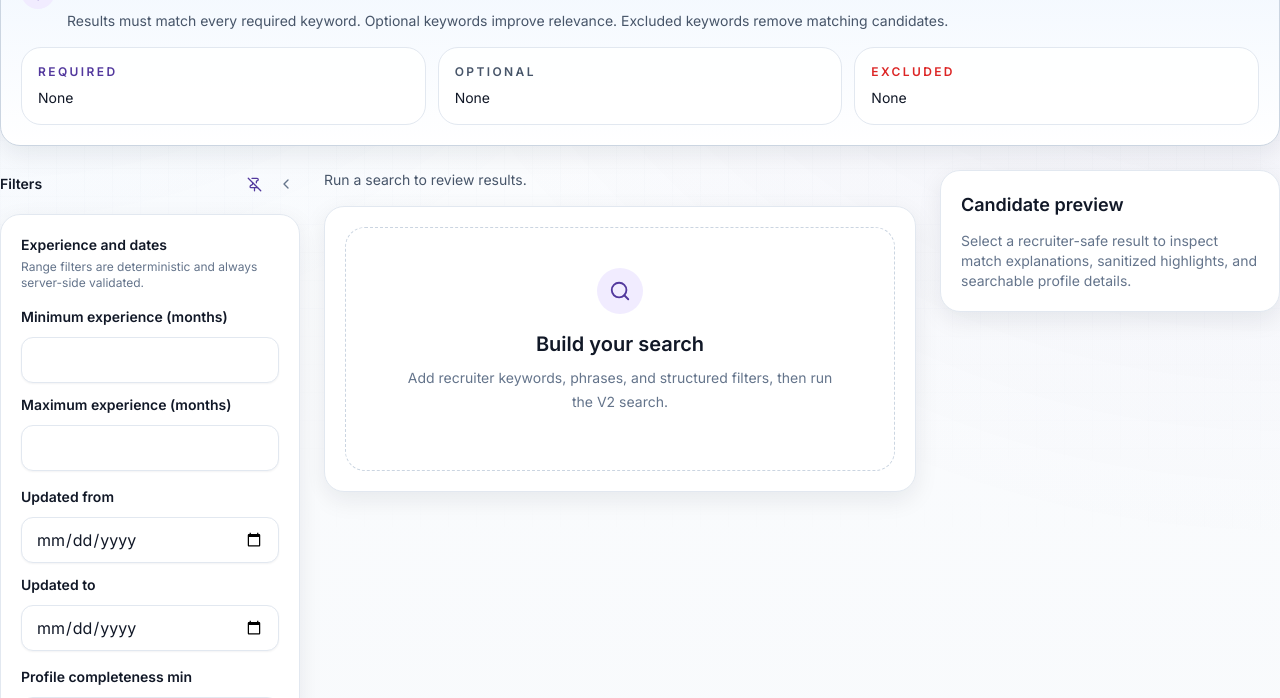
it: RecruiterResumeSearchV2Page › collapsing the filter rail hides the form behind a toggle showing the active filter count, and expanding restores the same values
(page scrolled)
Type "60" into the number field labelled "Minimum experience (months)" at (150, 360), box x1=21 y1=337 x2=279 y2=383
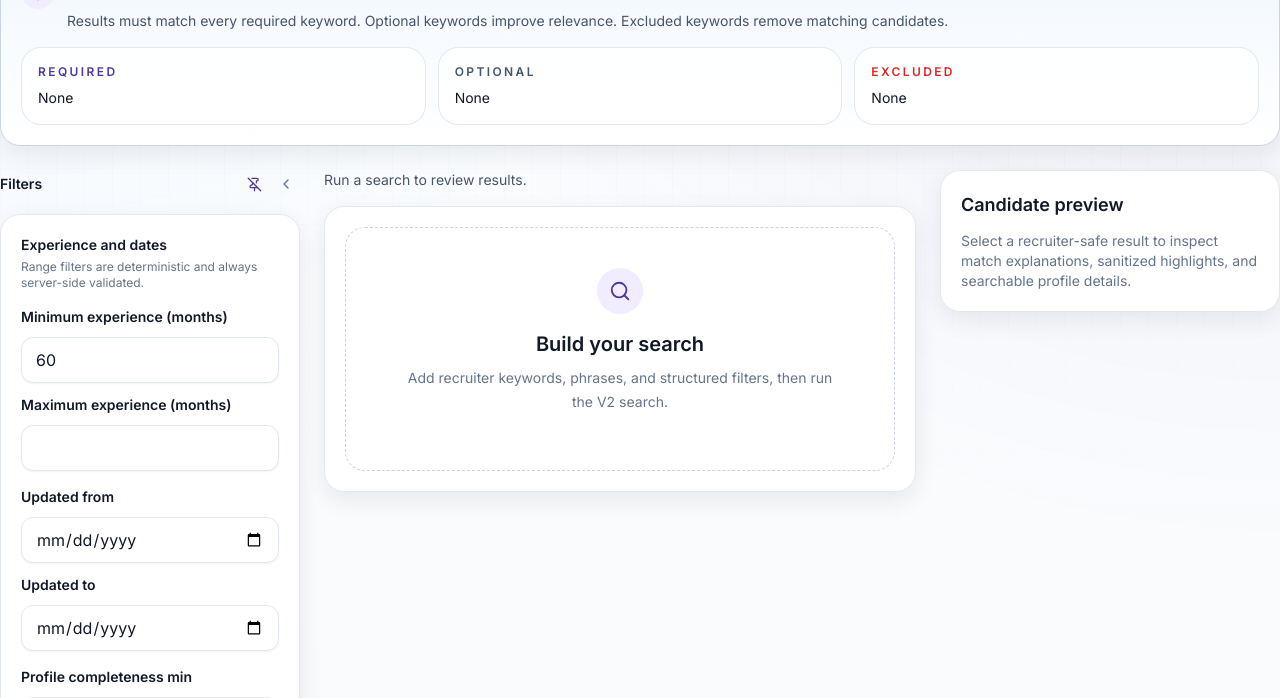
Click the button named "Collapse filters" at (286, 184), box x1=272 y1=170 x2=300 y2=198
(page scrolled)
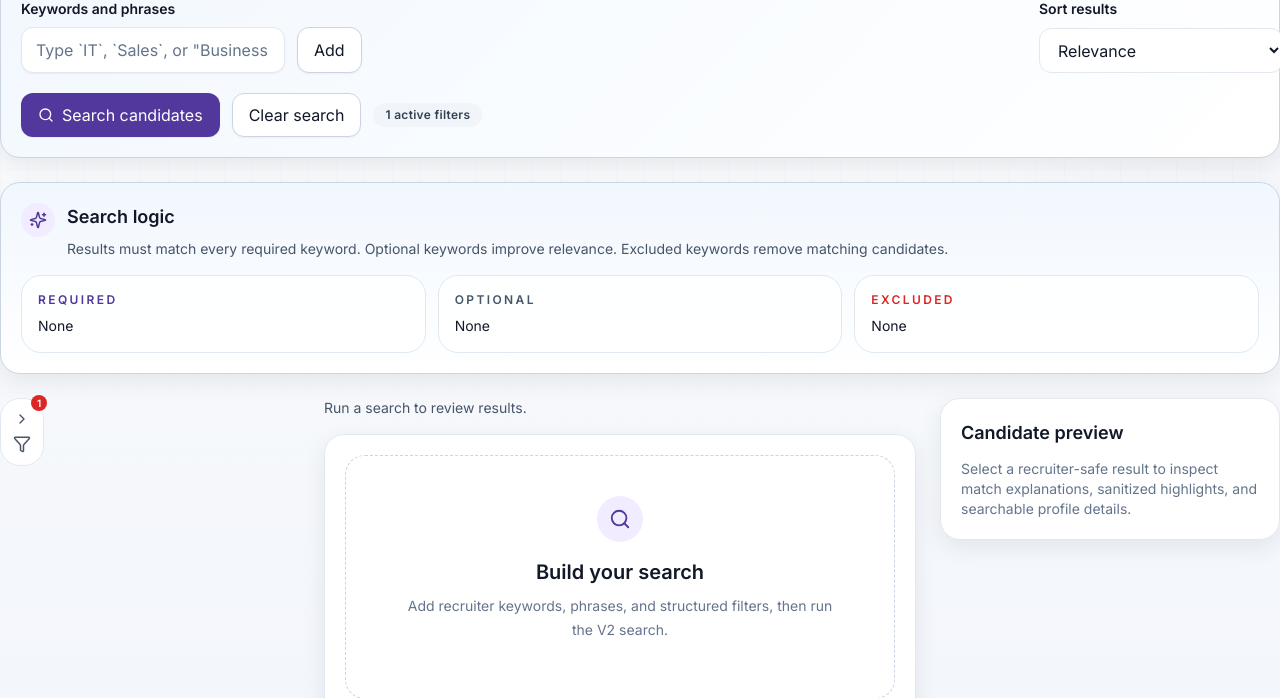
Expected: the label labelled "Minimum experience (months)" is gone
Expected: the button named "Expand filters, 1 active" is shown
Click the button named "Expand filters, 1 active" at (22, 432), box x1=0 y1=398 x2=44 y2=466
(page scrolled)
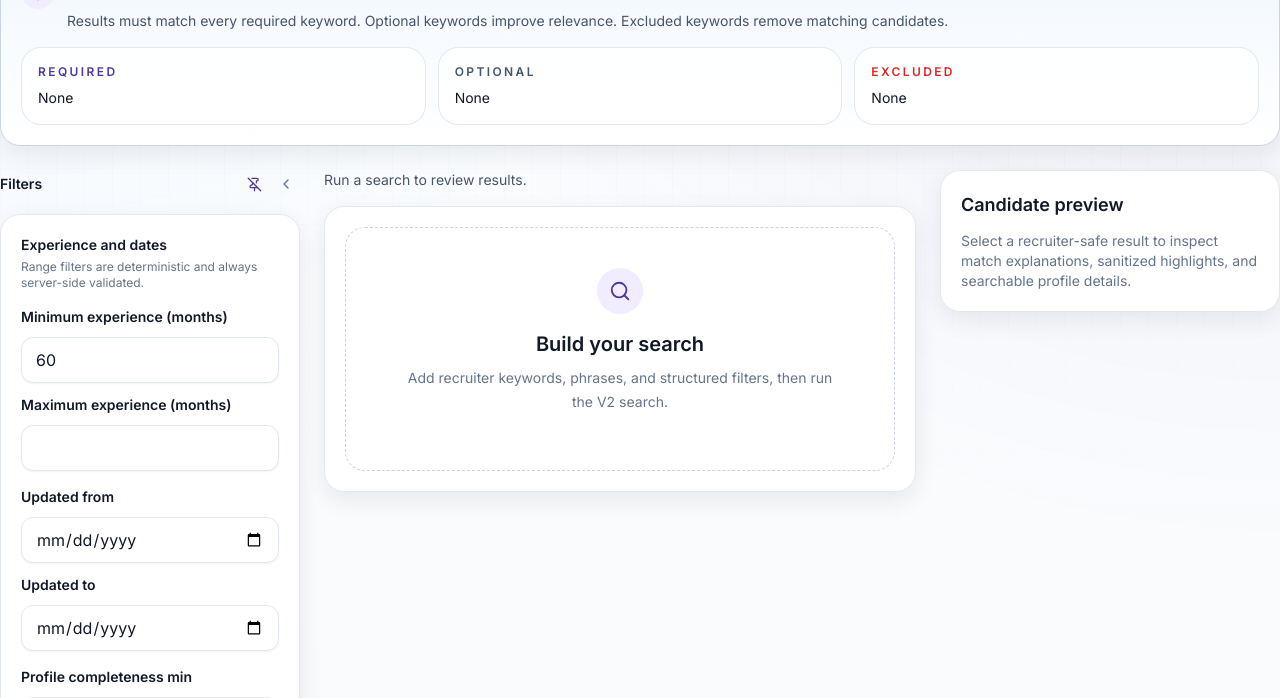
Expected: the number field labelled "Minimum experience (months)" holds "60", x1=21 y1=337 x2=279 y2=383
